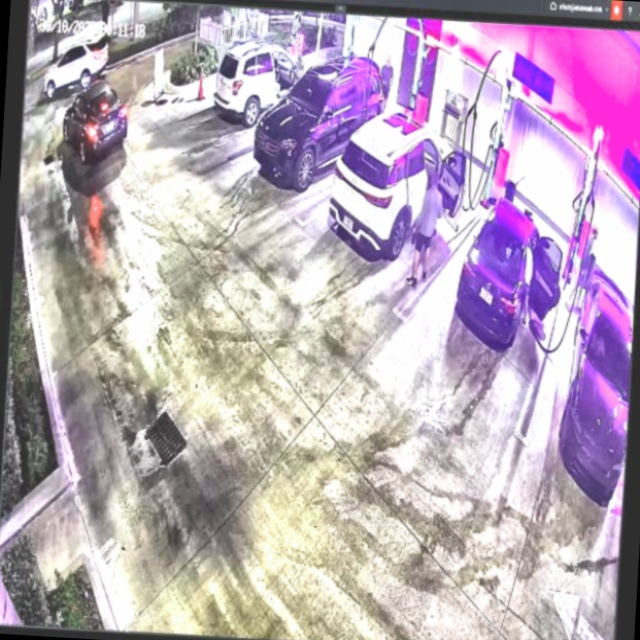Car: (329, 111, 464, 258), (253, 51, 386, 185), (454, 197, 564, 355)
